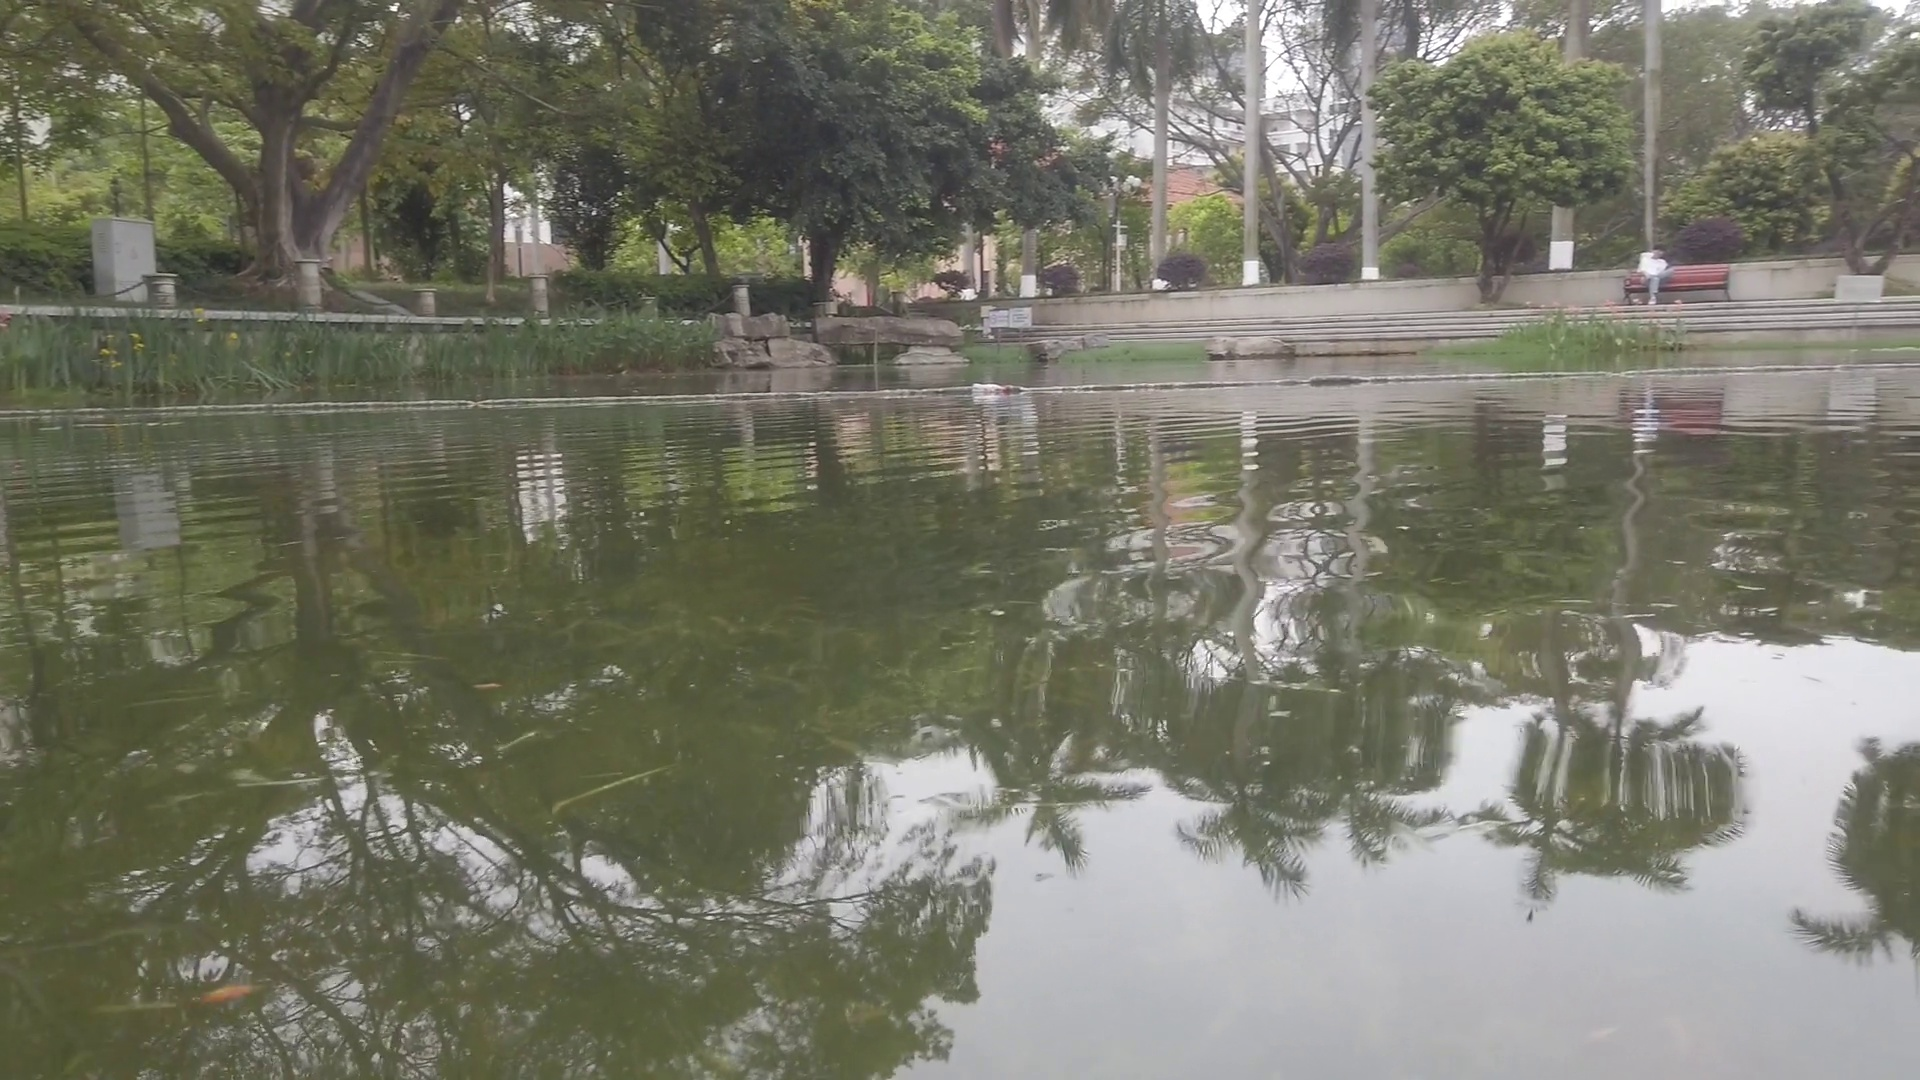bottle: (971, 385, 1009, 397)
